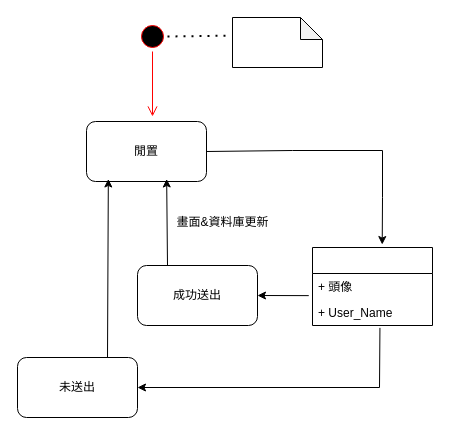
This 450x435 diagram has some shape labels left out. Here are the shapes that lost their labels. From the top down, the box of each, then its label:
(232, 16, 322, 68): 個資
(312, 246, 432, 326): 編輯事件
